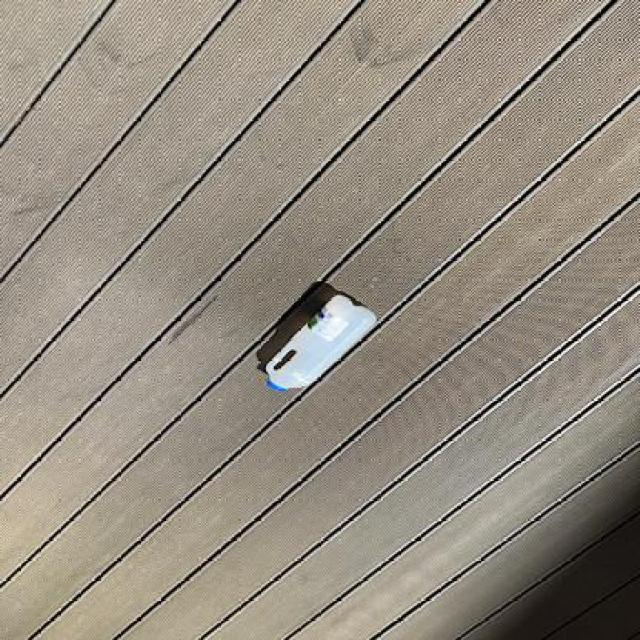trash: (260, 293, 389, 404)
